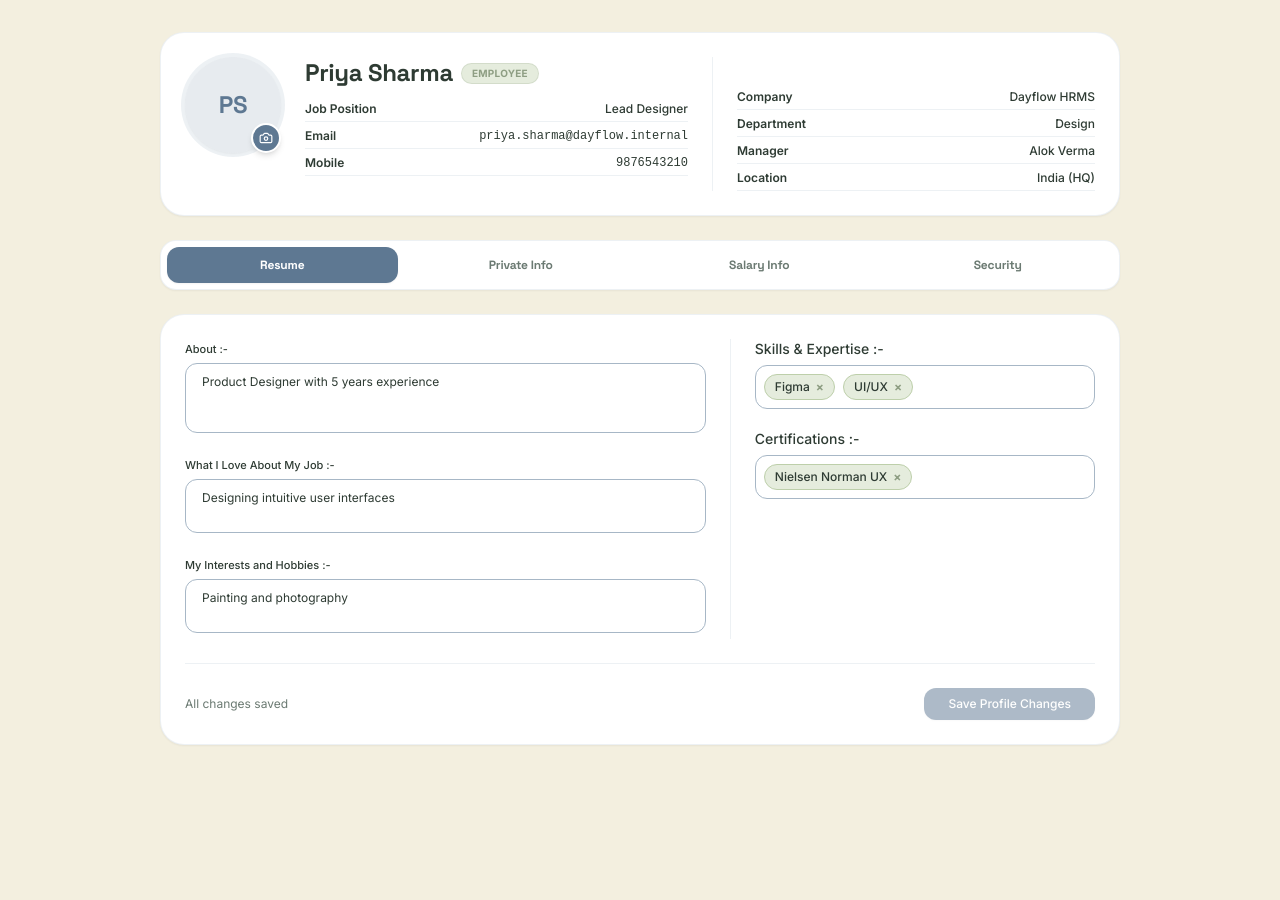
Employee Profile Module (Frontend) › /profile renders in editable mode with form inputs for About and Private Info
The width and height of the screenshot is (1280, 900).
Expected: the heading with test id "profile-name" reads "Priya Sharma", [305, 57, 453, 88]
Expected: the form with test id "profile-editable-form" is shown, [185, 339, 1095, 720]
Note: Switch to Private Info tab
What coordinates should you click on to do the following:
click the button with test id "tab-button-private"
I would click on:
 (521, 265)
Its box is [406, 247, 636, 283].
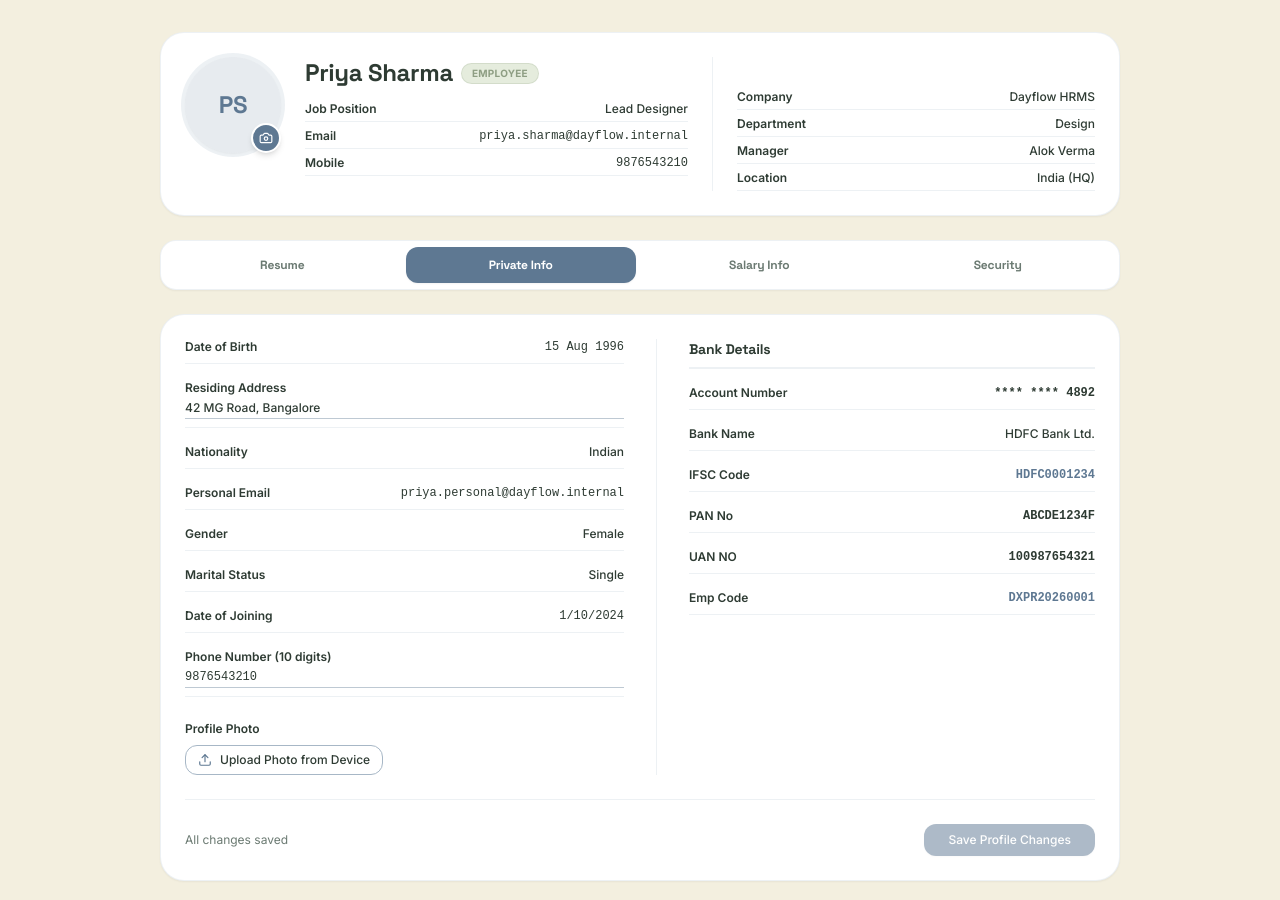
Result: the field with test id "input-phone" is shown at [185, 669, 624, 688]
Result: the field with test id "input-address" is shown at [185, 400, 624, 419]
Result: the element with test id "input-photo-file" is shown at [185, 721, 383, 775]
